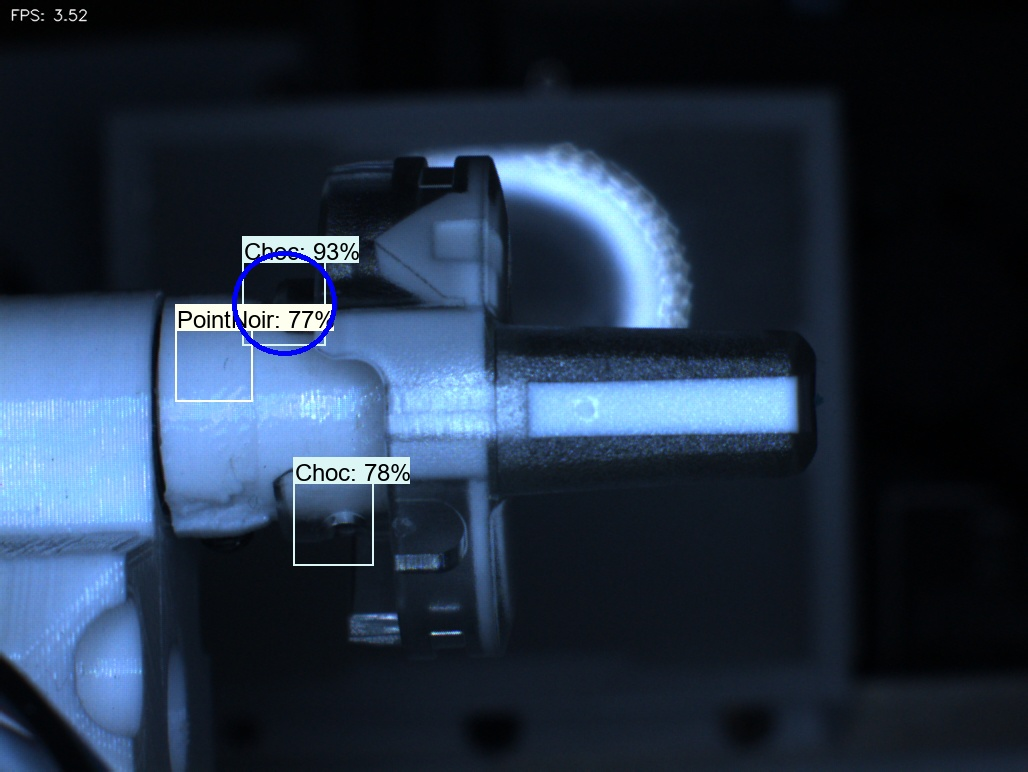DentOk: (350, 205, 421, 302)
